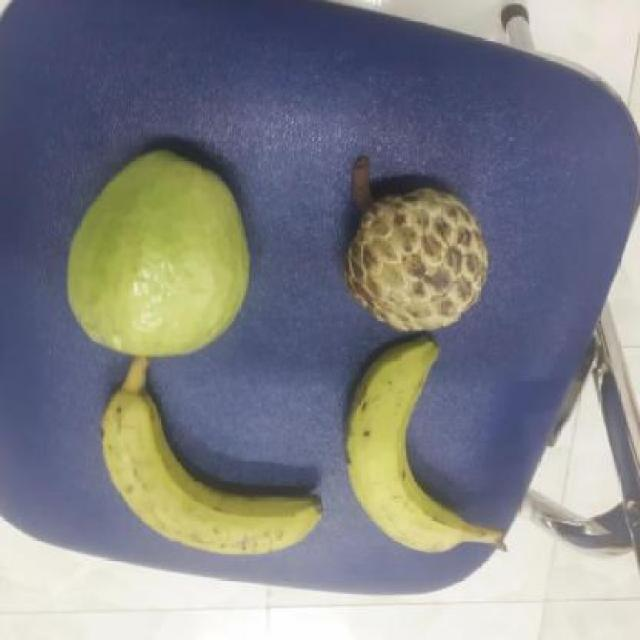banana: (93, 370, 330, 552), (341, 334, 492, 561)
guava: (59, 147, 268, 364)
sugar apple: (344, 185, 491, 337)
